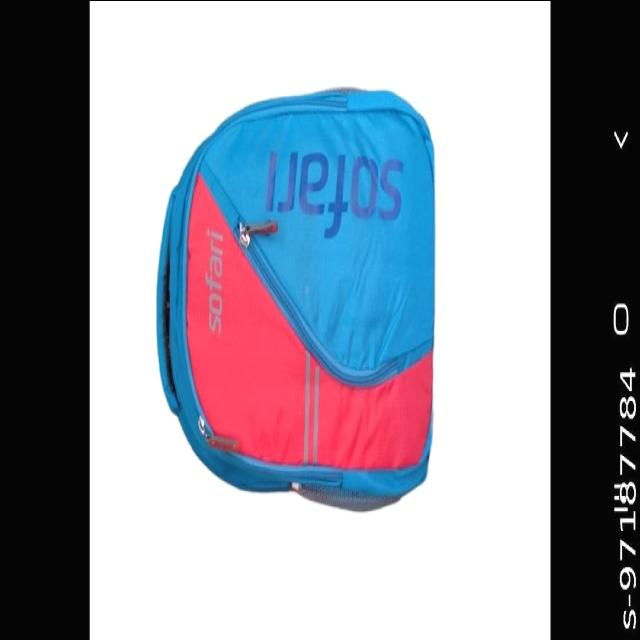backpack: (156, 88, 436, 514)
